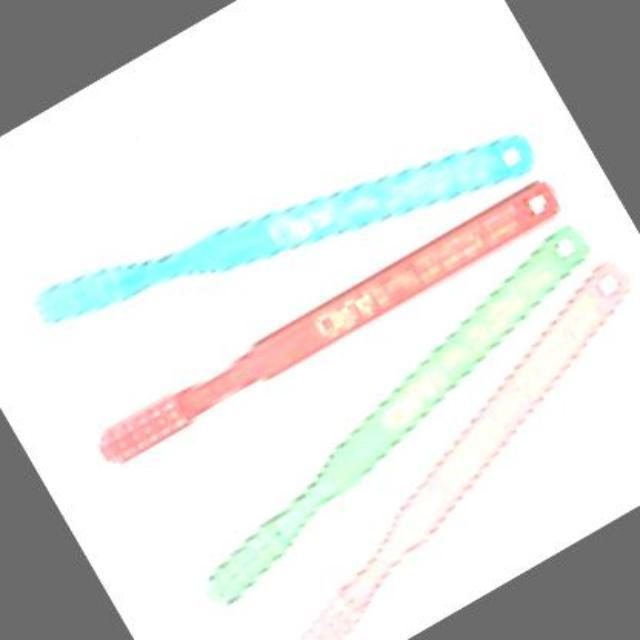toothbrush: (12, 24, 542, 422), (63, 152, 592, 506), (152, 398, 468, 638)
